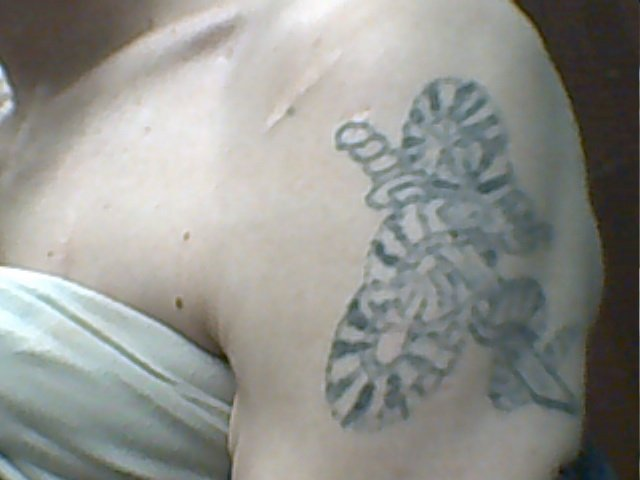tatu7_zmeya: (317, 51, 590, 430)
